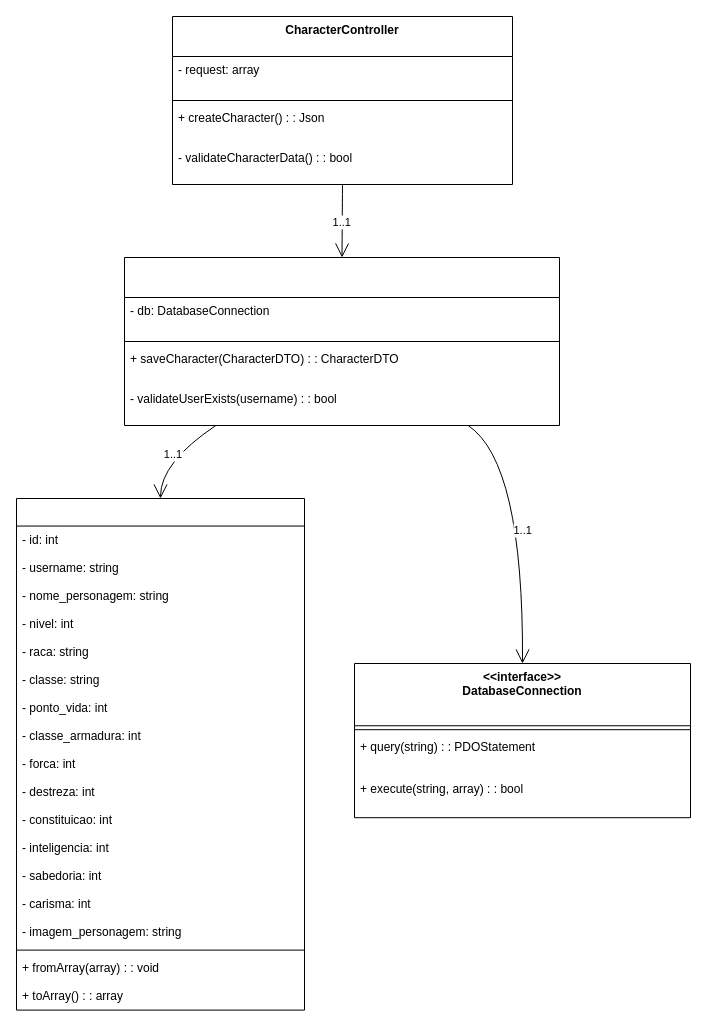
Some shapes in this 707 by 1027 pixel diagram are drawn without their labels. The box of each missing label's shape, as (x1, y1, x2, y2) in pixels:
CharacterDTO: (16, 498, 304, 1010)
CharacterModel: (124, 256, 560, 426)
